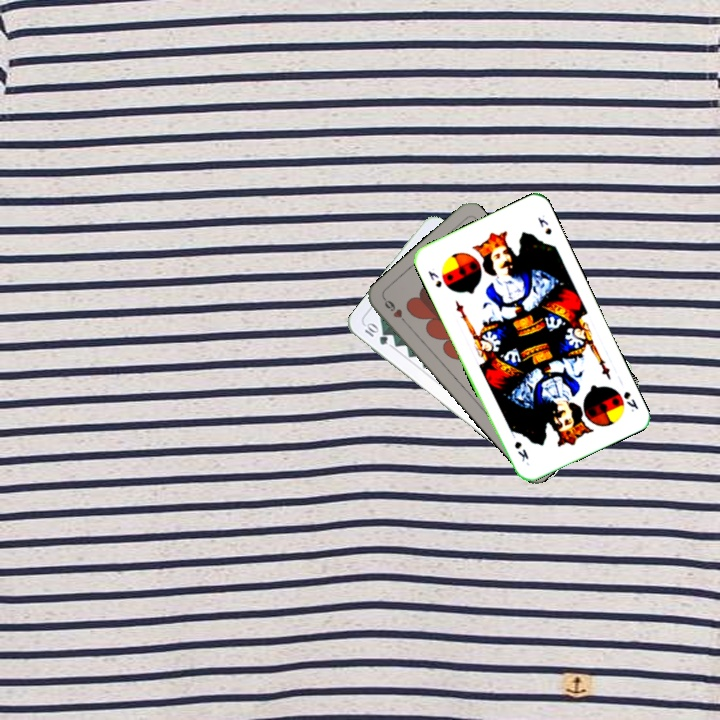G10: (360, 319, 391, 348)
H9: (380, 294, 411, 328)
SK: (619, 387, 641, 415), (424, 264, 444, 290)
